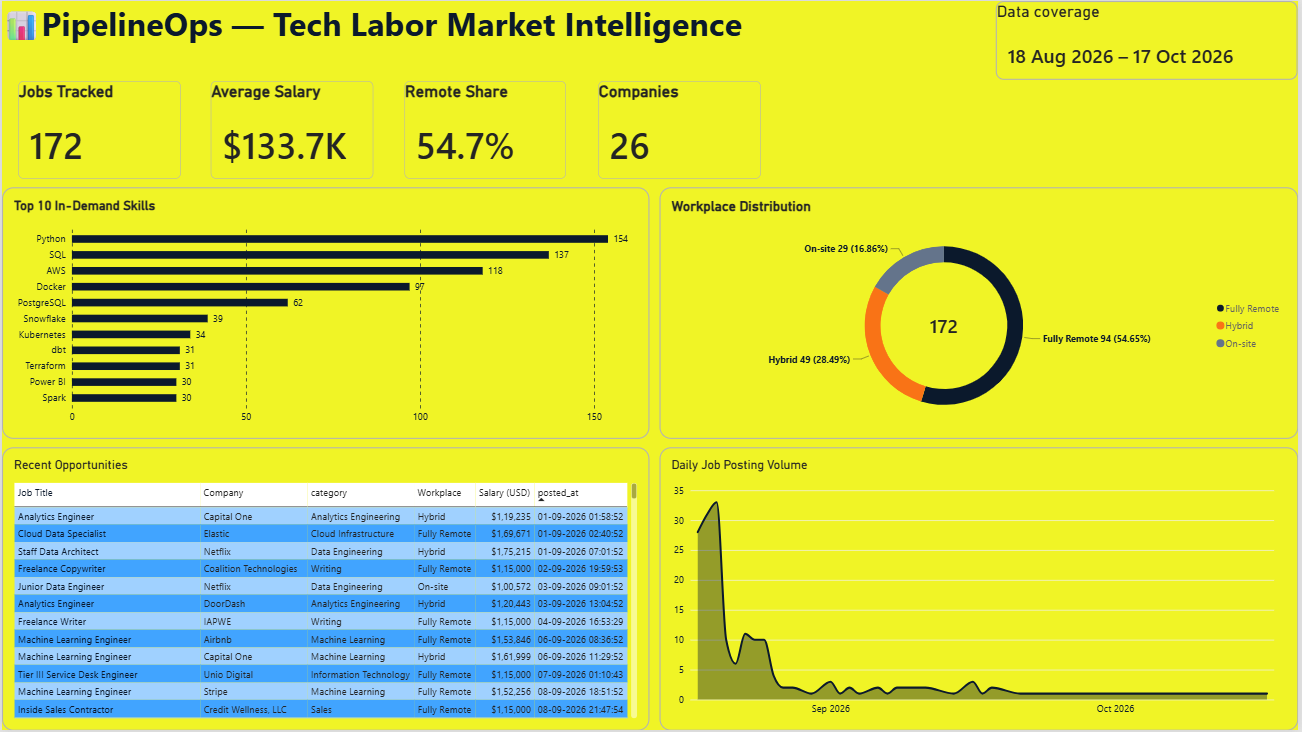

This screenshot's page, from the dashboard's own definition file:
{"tool":"powerbi","page":{"name":"Executive Overview","canvas":[1920,1080],"ordinal":0},"visuals":[{"type":"textbox","box":[0,0,1123.8,88.7],"z":0},{"type":"cardVisual","title":"Jobs Tracked","fields":{"Data":["fact_jobs.Total Jobs"]},"box":[23.5,117.6,240.7,144.8],"z":1},{"type":"cardVisual","title":"Average Salary","fields":{"Data":["fact_jobs.Avg Salary USD"]},"box":[309.5,117.6,240.7,144.8],"z":2},{"type":"cardVisual","title":"Remote Share","fields":{"Data":["fact_jobs.Remote Ratio"]},"box":[597.2,117.6,238.9,144.8],"z":3},{"type":"cardVisual","title":"Companies","fields":{"Data":["fact_jobs.Unique Companies"]},"box":[883.1,117.6,240.7,144.8],"z":4},{"type":"clusteredBarChart","title":"Top 10 In-Demand Skills","fields":{"Category":["job_skills_bridge.skill_name"],"Y":["fact_jobs.Total Jobs"]},"box":[0,275.1,959.1,372.8],"z":5},{"type":"donutChart","title":"Workplace Distribution","fields":{"Category":["fact_jobs.remote_type"],"Y":["fact_jobs.Total Jobs"]},"box":[973.6,275.1,946.5,372.8],"z":6},{"type":"areaChart","title":"Daily Job Posting Volume","fields":{"Category":["Date.Date"],"Y":["fact_jobs.Total Jobs"]},"box":[973.6,660.5,946.5,419.8],"z":7},{"type":"tableEx","title":"Recent Opportunities","fields":{"Values":["fact_jobs.job_title","fact_jobs.company_name","fact_jobs.category","fact_jobs.remote_type","fact_jobs.salary_avg","fact_jobs.posted_at"]},"box":[0,660.5,959.1,419.8],"z":8},{"type":"cardVisual","title":"Data coverage","fields":{"Data":["fact_jobs.Data Window Label"]},"box":[1472.3,0,446.8,117],"z":9}]}

Visuals, with their boxes in screenshot pixels (x1, y1, x2, y2), scaled from the page's 1920x1080 canvas onto the 1302x732 screenshot:
textbox: [left=0, top=0, right=762, bottom=60]
"Jobs Tracked" cardVisual: [left=16, top=80, right=179, bottom=178]
"Average Salary" cardVisual: [left=210, top=80, right=373, bottom=178]
"Remote Share" cardVisual: [left=405, top=80, right=567, bottom=178]
"Companies" cardVisual: [left=599, top=80, right=762, bottom=178]
"Top 10 In-Demand Skills" clusteredBarChart: [left=0, top=186, right=650, bottom=439]
"Workplace Distribution" donutChart: [left=660, top=186, right=1301, bottom=439]
"Daily Job Posting Volume" areaChart: [left=660, top=448, right=1301, bottom=731]
"Recent Opportunities" tableEx: [left=0, top=448, right=650, bottom=731]
"Data coverage" cardVisual: [left=998, top=0, right=1301, bottom=79]
